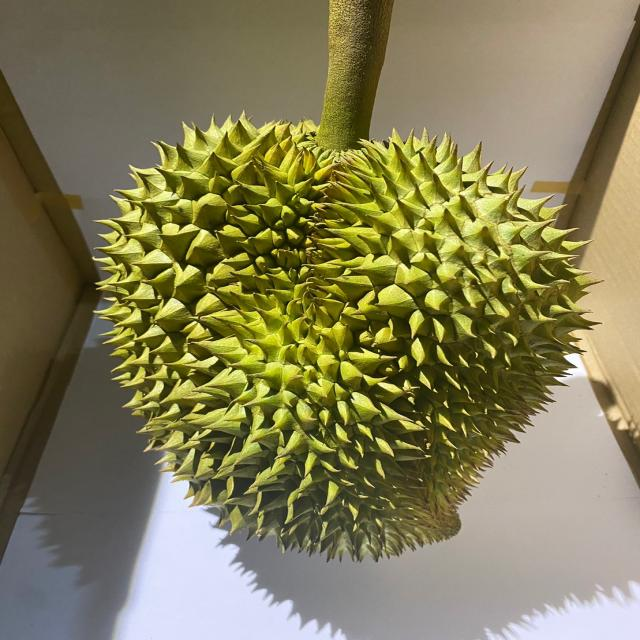immature: (93, 111, 598, 560)
